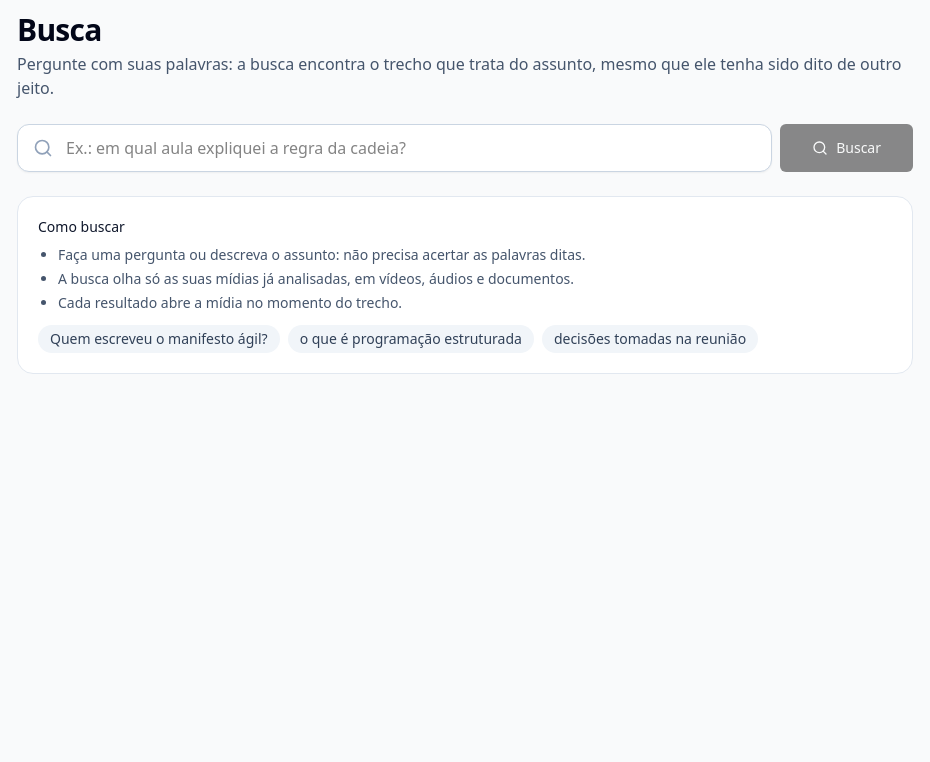
Scenario: SearchPage › groups the passages by media, with the title, the time and a link to the moment
Type "regra da cadeia" into the search field named "Pergunta" at (395, 148), box [17,124,772,172]
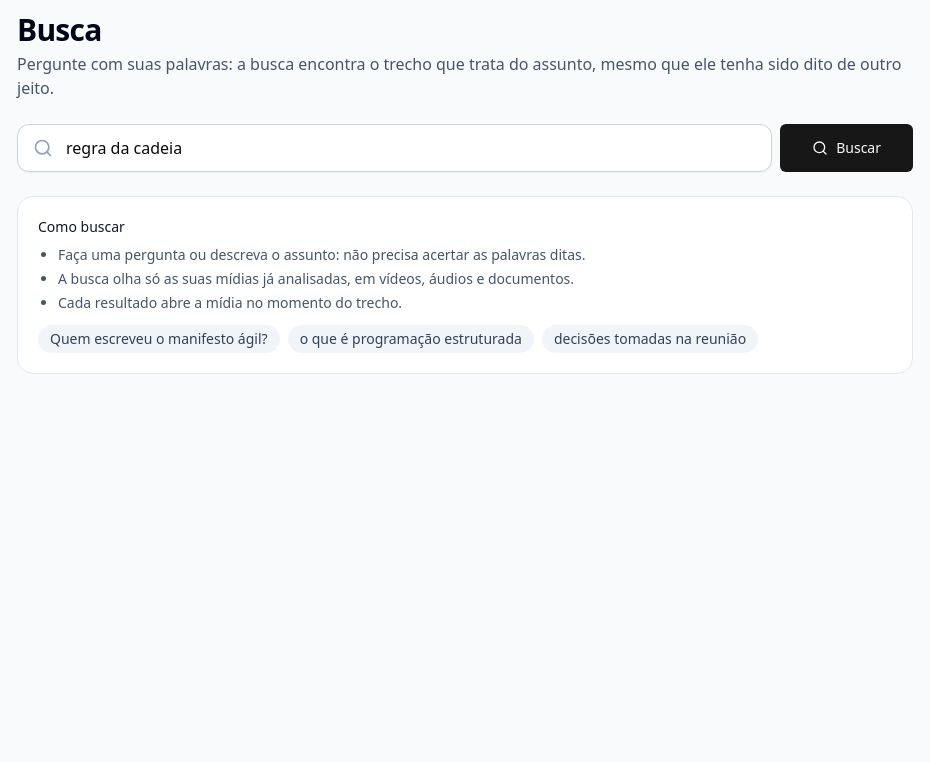
Click the button "Buscar" at (847, 148), box [780,124,913,172]
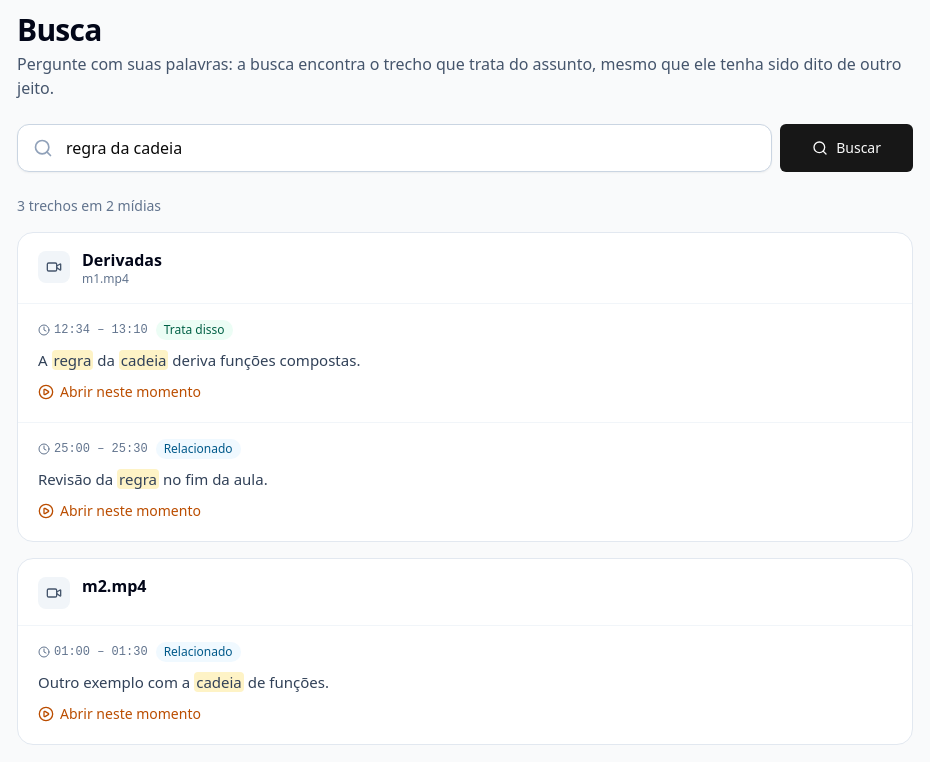
Result: the text "3 trechos em 2 mídias" is shown at [17,196,161,215]
Result: the text "Trata disso" is shown at [156,320,232,340]
Result: the text "12:34 – 13:10" is shown at [38,322,148,338]
